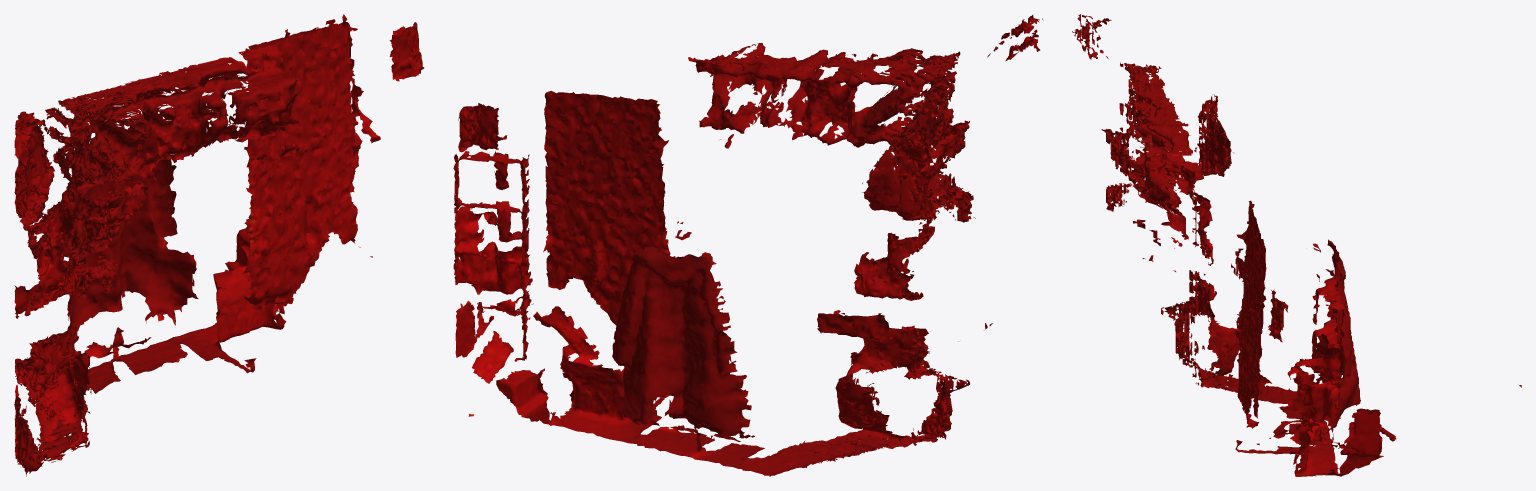
3 views of the same model, side by side, from view 1: azimuth 30°, elevation 25°; view 2: azimuth 150°, elevation 25°; view 3: azimuth 270°, elevation 25° (orthographic). The views are drawn at different scales.
Size of the model in its own units: 3.1 by 2.43 by 2.95.
